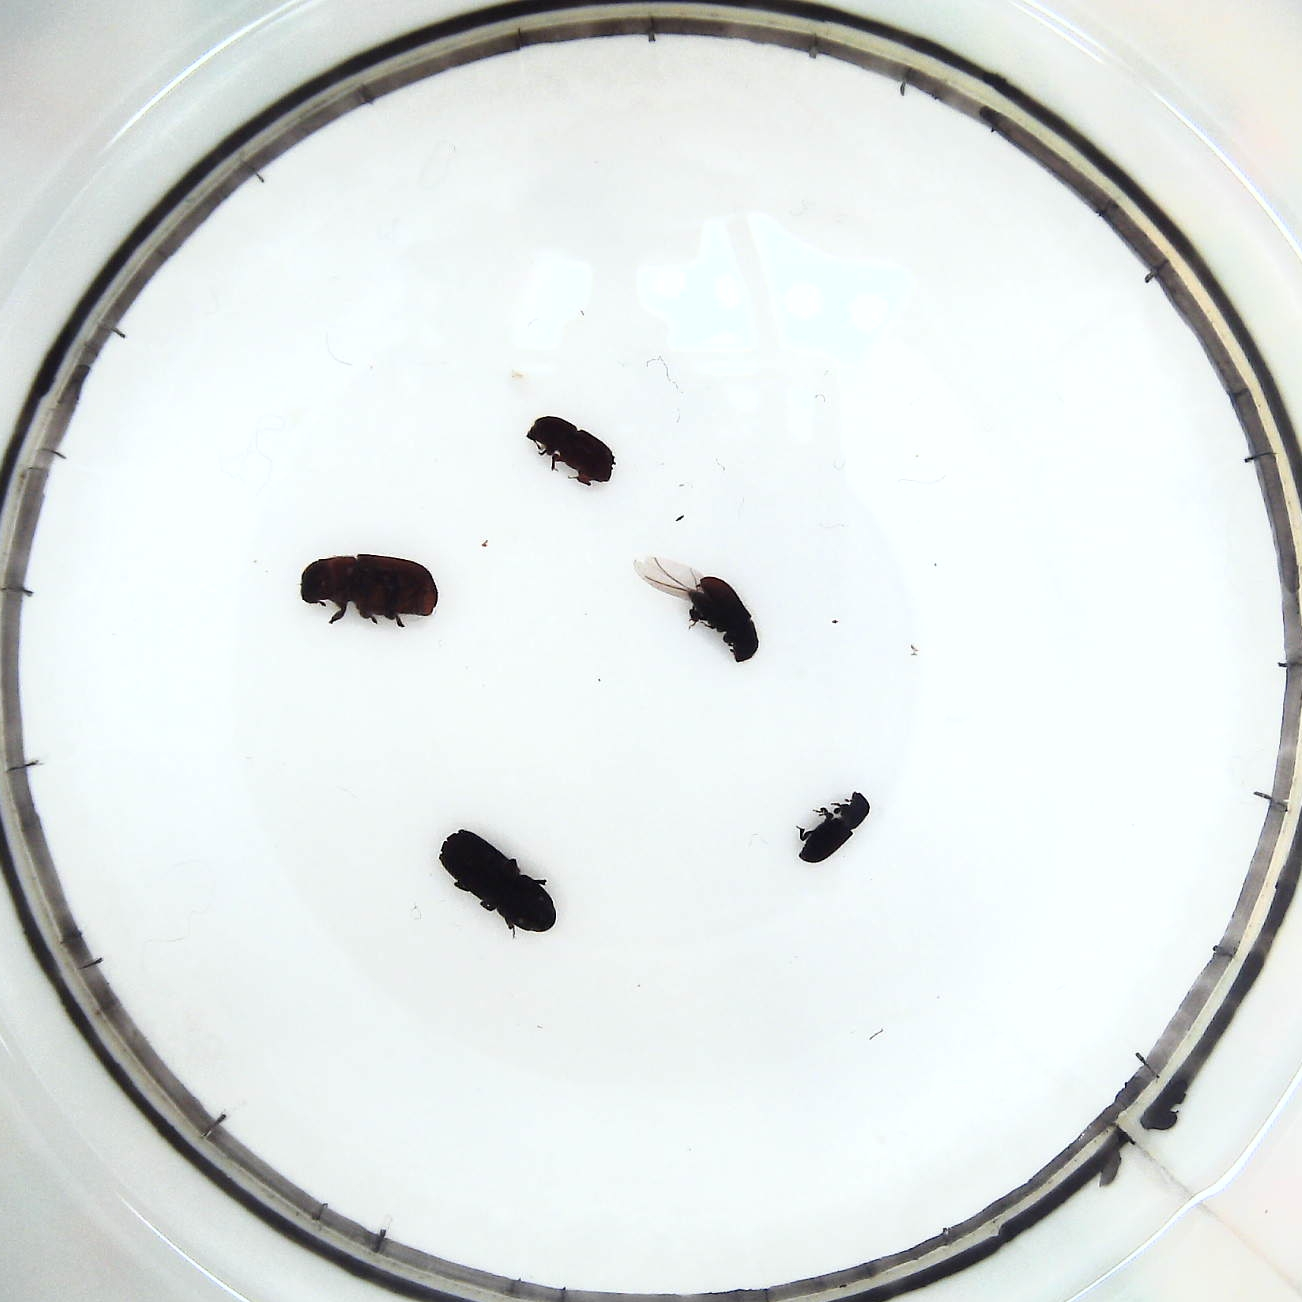Boerner: (438, 825, 560, 940)
Leconte: (294, 552, 447, 633)
armandi: (620, 550, 762, 674)
coleoptera: (790, 785, 872, 872)
linnaeus: (520, 413, 620, 491)
